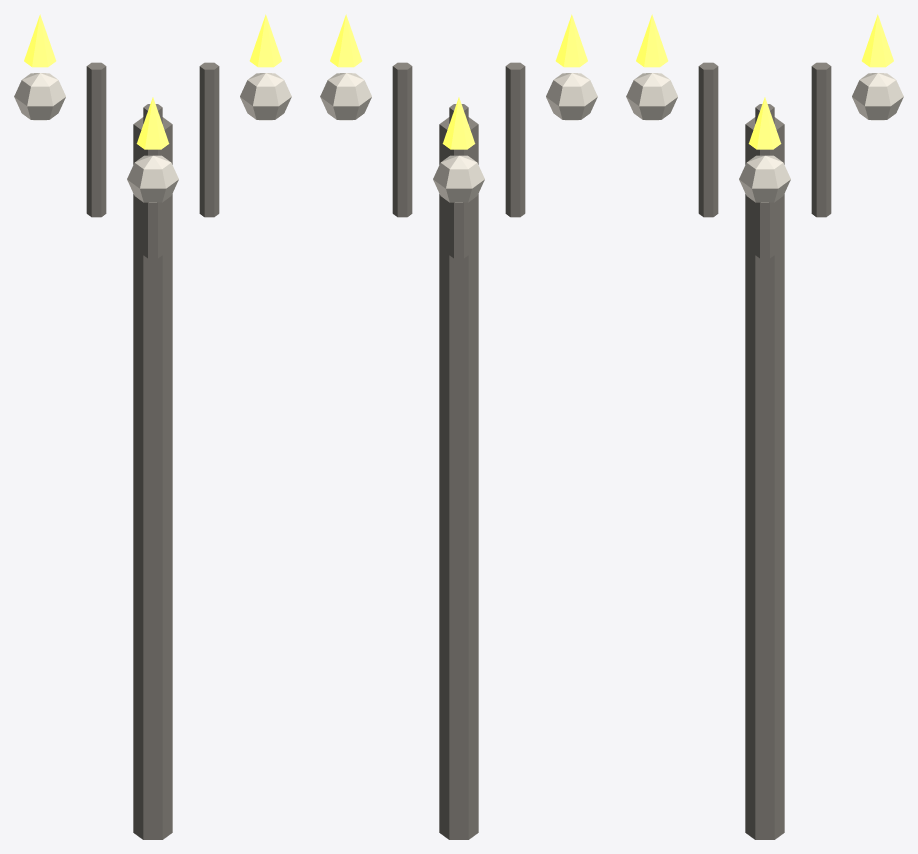
File: candelabra.glb
3 views of the same model, side by side, from view 1: azimuth 30°, elevation 25°; view 2: azimuth 150°, elevation 25°; view 3: azimuth 270°, elevation 25° (orthographic).
Parts seen in each view (by area): view 1: Cylinder, Cylinder.001, Cylinder.002, Sphere.002, Sphere, Sphere.001, Cylinder.003, Cone, Cone.001, Cone.002; view 2: Cylinder, Cylinder.001, Cylinder.003, Sphere.001, Sphere, Sphere.002, Cylinder.002, Cone, Cone.002, Cone.001; view 3: Cylinder, Cylinder.002, Cylinder.003, Sphere, Sphere.001, Sphere.002, Cylinder.001, Cone.001, Cone.002, Cone.
Part boxes in pixels (left/top/right/bottom): Cylinder: left=133, top=117, right=172, bottom=839; Cylinder.001: left=199, top=62, right=219, bottom=217; Cylinder.002: left=86, top=62, right=106, bottom=217; Sphere.002: left=127, top=155, right=178, bottom=202; Sphere: left=240, top=73, right=291, bottom=120; Sphere.001: left=14, top=73, right=65, bottom=120; Cylinder.003: left=143, top=104, right=162, bottom=258; Cone: left=249, top=14, right=281, bottom=67; Cone.001: left=24, top=14, right=56, bottom=67; Cone.002: left=136, top=97, right=169, bottom=149; Cylinder: left=439, top=117, right=478, bottom=839; Cylinder.001: left=392, top=62, right=412, bottom=217; Cylinder.003: left=505, top=62, right=525, bottom=217; Sphere.001: left=433, top=155, right=484, bottom=202; Sphere: left=320, top=73, right=371, bottom=120; Sphere.002: left=546, top=73, right=597, bottom=120; Cylinder.002: left=449, top=104, right=468, bottom=258; Cone: left=330, top=14, right=362, bottom=67; Cone.002: left=555, top=14, right=587, bottom=67; Cone.001: left=442, top=97, right=475, bottom=149; Cylinder: left=745, top=117, right=784, bottom=839; Cylinder.002: left=811, top=62, right=831, bottom=217; Cylinder.003: left=698, top=62, right=718, bottom=217; Sphere: left=739, top=155, right=790, bottom=202; Sphere.001: left=852, top=73, right=903, bottom=120; Sphere.002: left=626, top=73, right=677, bottom=120; Cylinder.001: left=755, top=104, right=774, bottom=258; Cone.001: left=861, top=14, right=893, bottom=67; Cone.002: left=636, top=14, right=668, bottom=67; Cone: left=748, top=97, right=781, bottom=149.
Size of the model in its own units: 0.3693 by 1.34 by 0.4264.
